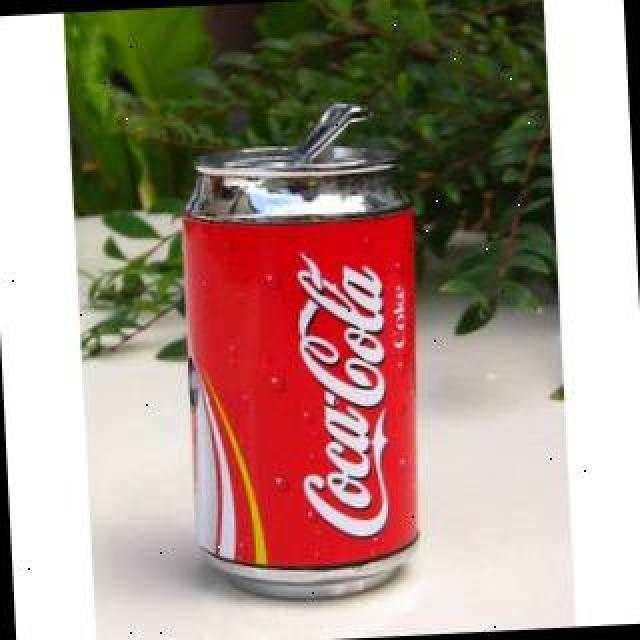coca-cola: (164, 124, 432, 612)
